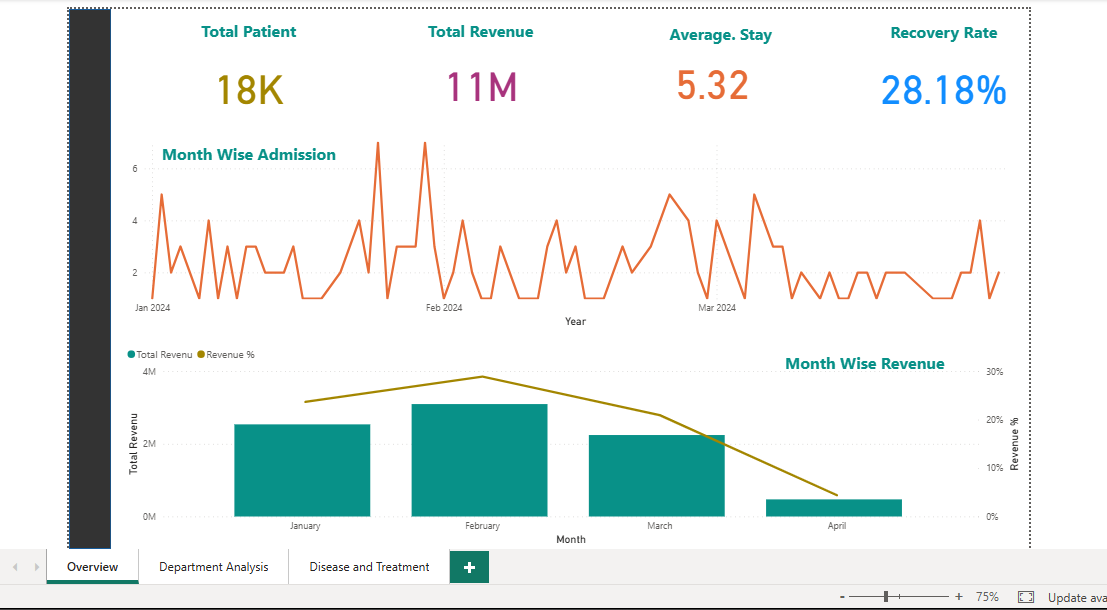

The page's visual inventory and layout, read from the dashboard file:
{"tool":"powerbi","page":{"name":"Overview","canvas":[1280,720],"ordinal":0},"visuals":[{"type":"shape","box":[0,0,56.2,720],"z":0},{"type":"card","fields":{"Values":["Measure.Total Patient"]},"box":[135,55,210,91.2],"z":5000},{"type":"textbox","box":[135,8.8,210,43.8],"z":6000},{"type":"card","fields":{"Values":["Measure.Recovery Rate"]},"box":[1061.2,55,210,91.2],"z":7000},{"type":"card","fields":{"Values":["Measure.Average Length of Stay"]},"box":[752.5,47.5,210,91.2],"z":8000},{"type":"card","fields":{"Values":["Measure.Total Revenu"]},"box":[443.8,55,210,83.8],"z":9000},{"type":"textbox","box":[1061.2,11.2,210,43.8],"z":10000},{"type":"textbox","box":[763.8,13.8,210,41.2],"z":11000},{"type":"textbox","box":[443.8,8.8,210,43.8],"z":12000},{"type":"lineChart","fields":{"Y":["CountNonNull(Admission.Admission Date)"],"Category":["Date.Date.Variation.Date Hierarchy.Year","Date.Date.Variation.Date Hierarchy.Quarter","Date.Date.Variation.Date Hierarchy.Month","Date.Date.Variation.Date Hierarchy.Day"]},"box":[72.5,163.8,1198.8,265],"z":13000},{"type":"textbox","box":[106.2,173.8,266.2,47.5],"z":14000},{"type":"lineStackedColumnComboChart","fields":{"Category":["Admission.Discharge Date.Variation.Date Hierarchy.Month"],"Y":["Measure.Total Revenu"],"Y2":["Measure.Revenue %"]},"box":[72.5,440,1200,280],"z":15000},{"type":"textbox","box":[927.5,452.5,266.2,47.5],"z":16000}]}

Visuals, with their boxes on the page's 1280x720 design canvas (x1, y1, x2, y2). These are canvas units, not pixel positions in the 1107x610 screenshot, which may show the page scaled, cropped or inside an application window:
shape: [0,0,56,720]
card - Measure.Total Patient: [135,55,345,146]
textbox: [135,9,345,53]
card - Measure.Recovery Rate: [1061,55,1271,146]
card - Measure.Average Length of Stay: [752,48,962,139]
card - Measure.Total Revenu: [444,55,654,139]
textbox: [1061,11,1271,55]
textbox: [764,14,974,55]
textbox: [444,9,654,53]
lineChart - CountNonNull(Admission.Admission Date) x Date.Date.Variation.Date Hierarchy.Year: [72,164,1271,429]
textbox: [106,174,372,221]
lineStackedColumnComboChart - Admission.Discharge Date.Variation.Date Hierarchy.Month x Measure.Total Revenu: [72,440,1272,720]
textbox: [928,452,1194,500]
